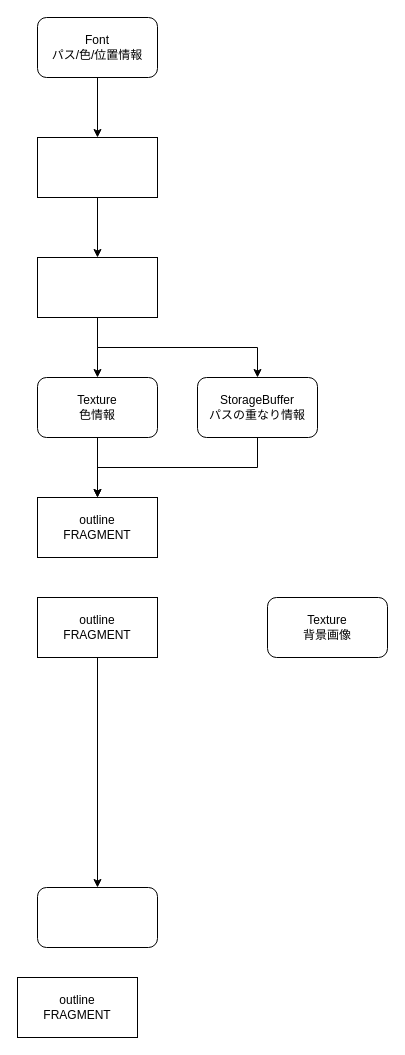
Some shapes in this 405 by 1055 pixel diagram are drawn without their labels. Here are the shapes that lost their labels. From the top down, the centre of each, then its label:
At pixel 97 167: "overlap VERTEX".
At pixel 97 287: "overlap FRAGMENT".
At pixel 97 917: "Texture レンダリング結果 （背景透過）".
